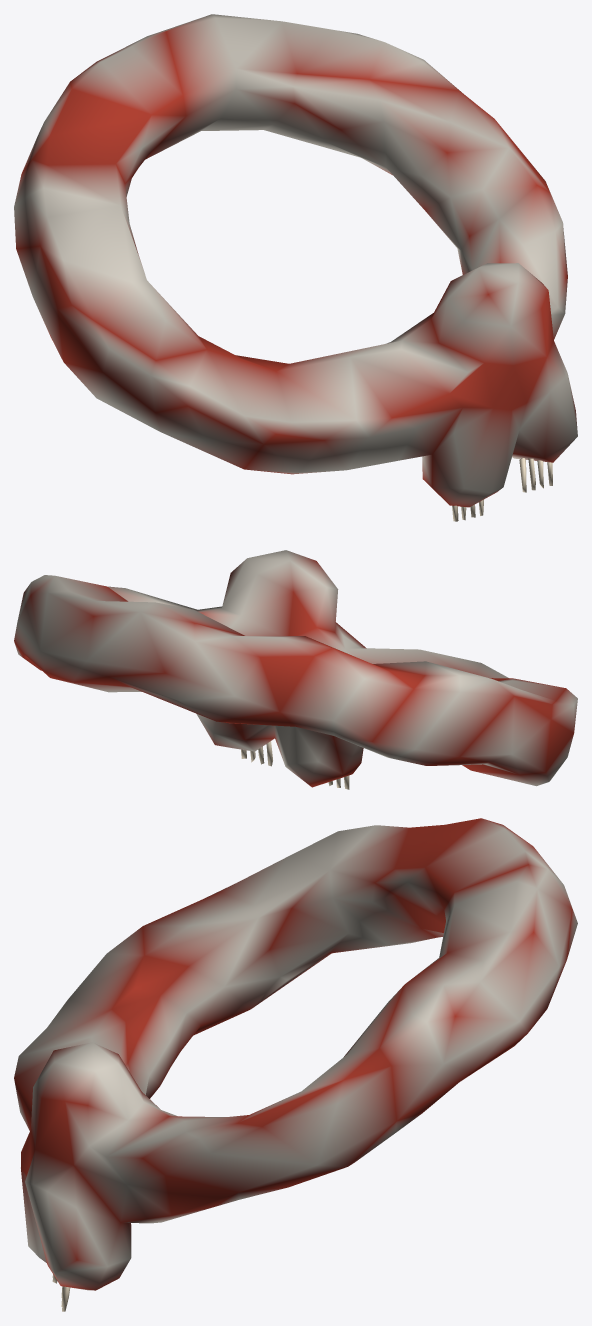
File: khanlen.glb
3 renders of one model, top to bottom at view 1: azimuth 30°, elevation 25°; view 2: azimuth 150°, elevation 25°; view 3: azimuth 270°, elevation 25°, orthographic. The views are drawn at different scales.
Visible parts, largest first — view 1: Khan_Len, Tua_Khan; view 2: Khan_Len, Tua_Khan; view 3: Khan_Len.
Boxes of the visible parts, x1,y1,x2,y2 form: Khan_Len: [14, 14, 577, 507]; Tua_Khan: [452, 458, 552, 521]; Khan_Len: [14, 550, 577, 787]; Tua_Khan: [241, 741, 349, 789]; Khan_Len: [14, 818, 577, 1290].
Size of the model in its own units: 0.2811 by 0.1934 by 0.2631.
